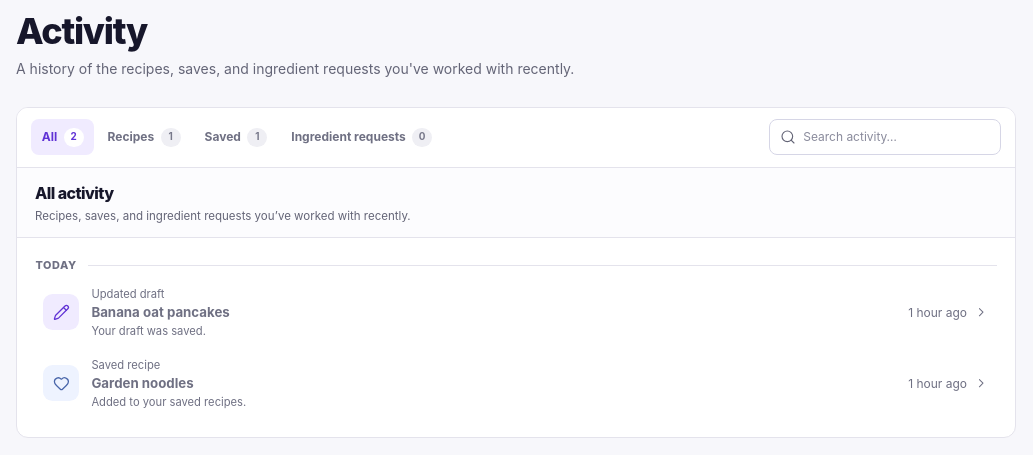
Test: MemberActivityTimeline › requests one server-filtered page when a tab changes
Expected: the text "Banana oat pancakes" is shown, [91, 304, 230, 320]
Click the button "Saved 1": coordinates (236, 137) [194, 119, 278, 155]
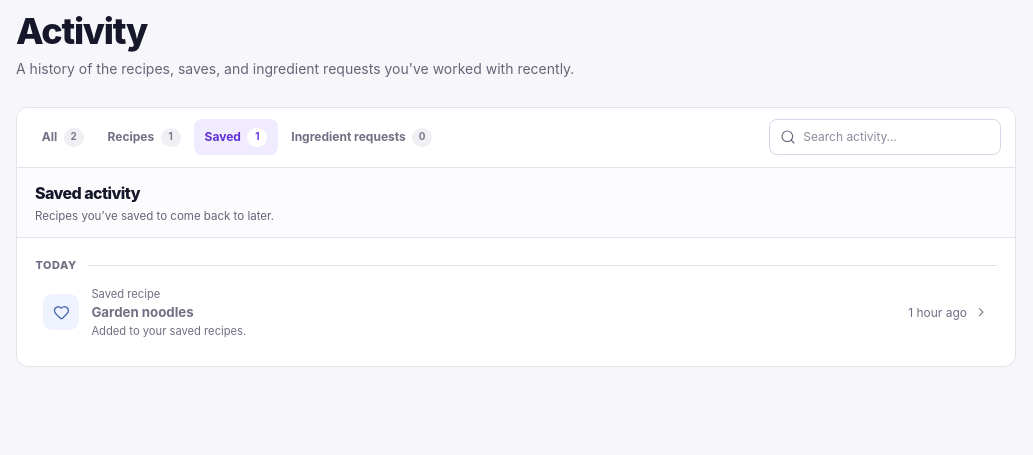
Expected: the text "Garden noodles" is shown, [91, 304, 194, 320]
Result: the link "Banana oat pancakes" is gone
